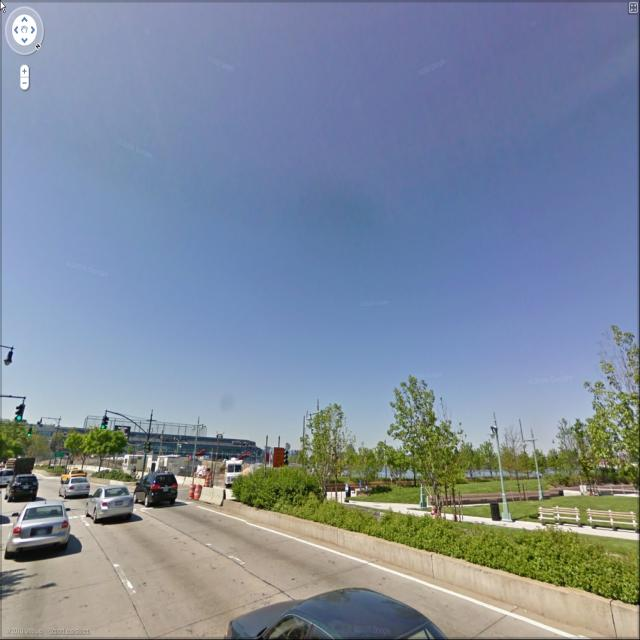b_2: (96, 417, 273, 465)
